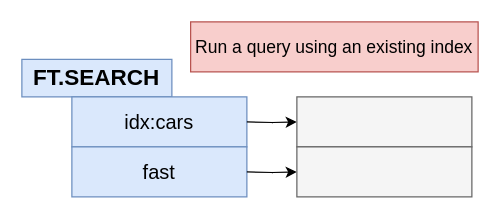
Image size: 500x219. Some labels were removed from this diagram. Each missing label, with the centre of its shape:
Name of the index: point (384, 121)
Query: point (384, 171)
